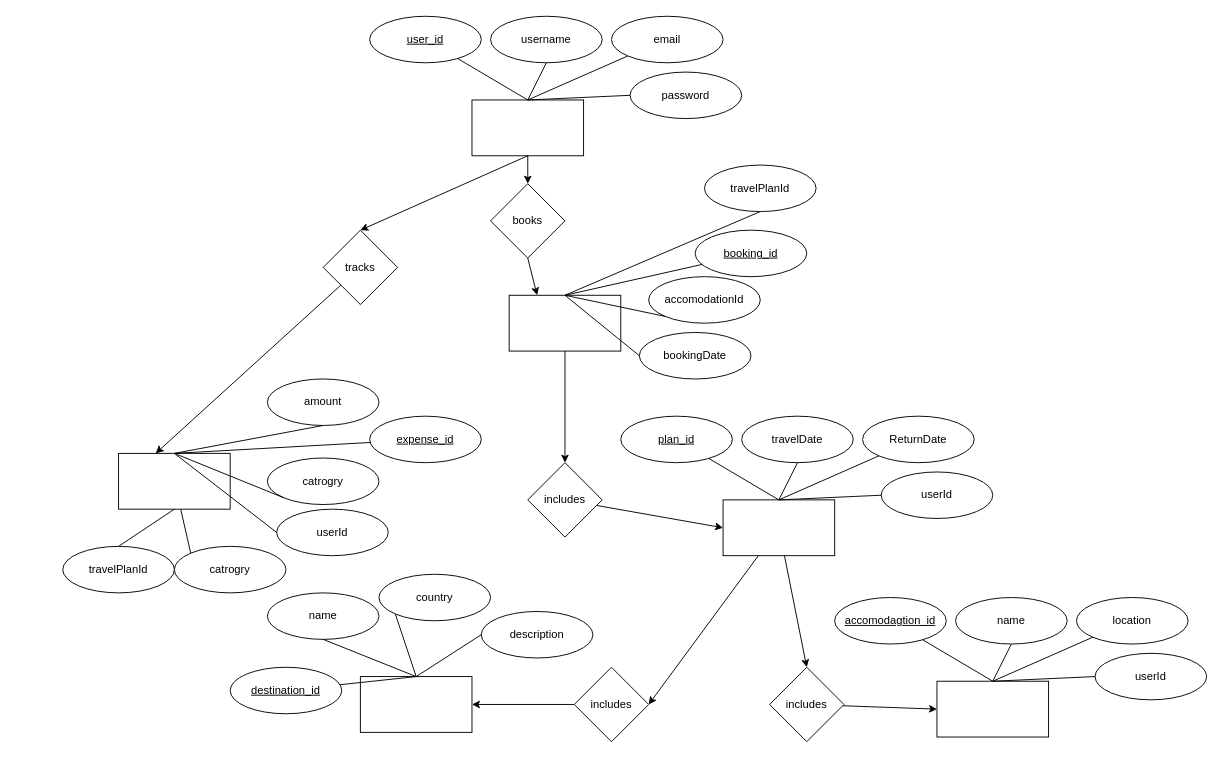
This 1223x758 diagram has some shape labels left out. The box of each missing label's shape, as (x1, y1, x2, y2) in pixels:
Accomodation: (936, 680, 1049, 737)
Booking: (508, 294, 621, 351)
Destination: (359, 676, 472, 732)
Expense: (118, 452, 230, 509)
TravelPlan: (722, 499, 835, 556)
User: (471, 99, 584, 156)
